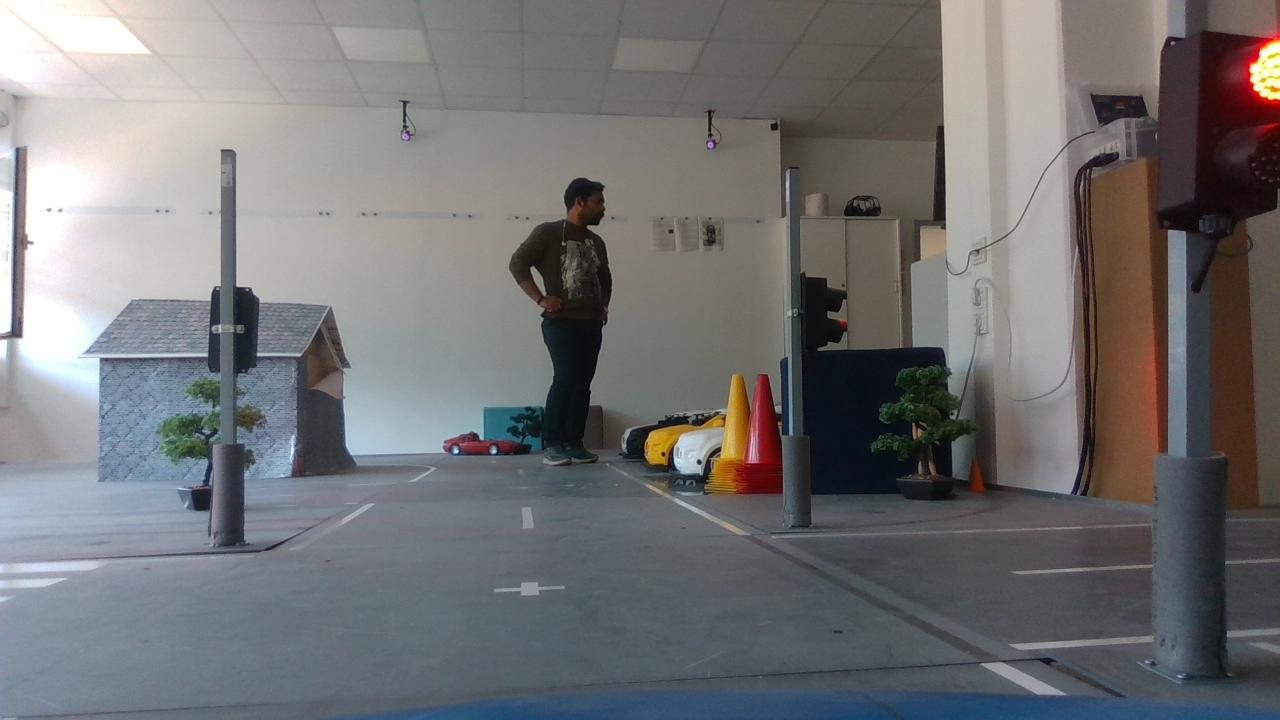traffic_light_red: (1144, 17, 1280, 244)
